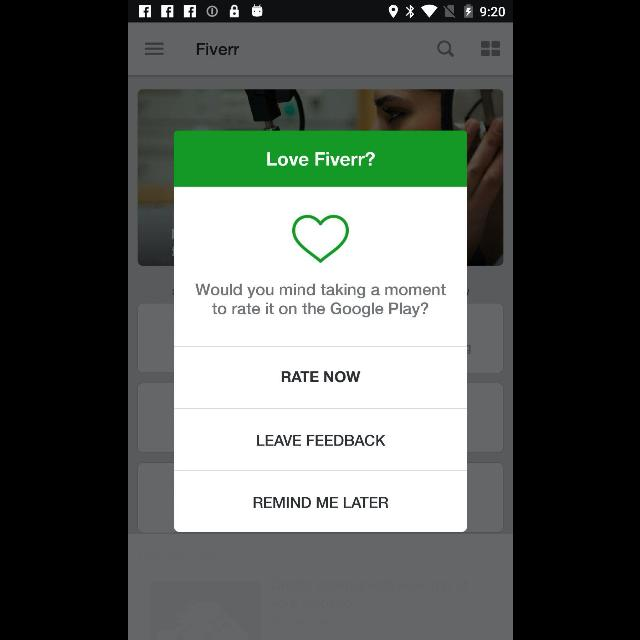icon: (292, 215, 348, 263), (480, 41, 500, 57), (436, 41, 454, 58), (144, 42, 162, 56)
panel: (174, 130, 466, 532)
text: (195, 284, 445, 318), (256, 434, 386, 446), (266, 152, 374, 166), (252, 498, 388, 508), (280, 372, 360, 382), (196, 42, 238, 56)
uppertaskbar: (128, 1, 512, 23)
